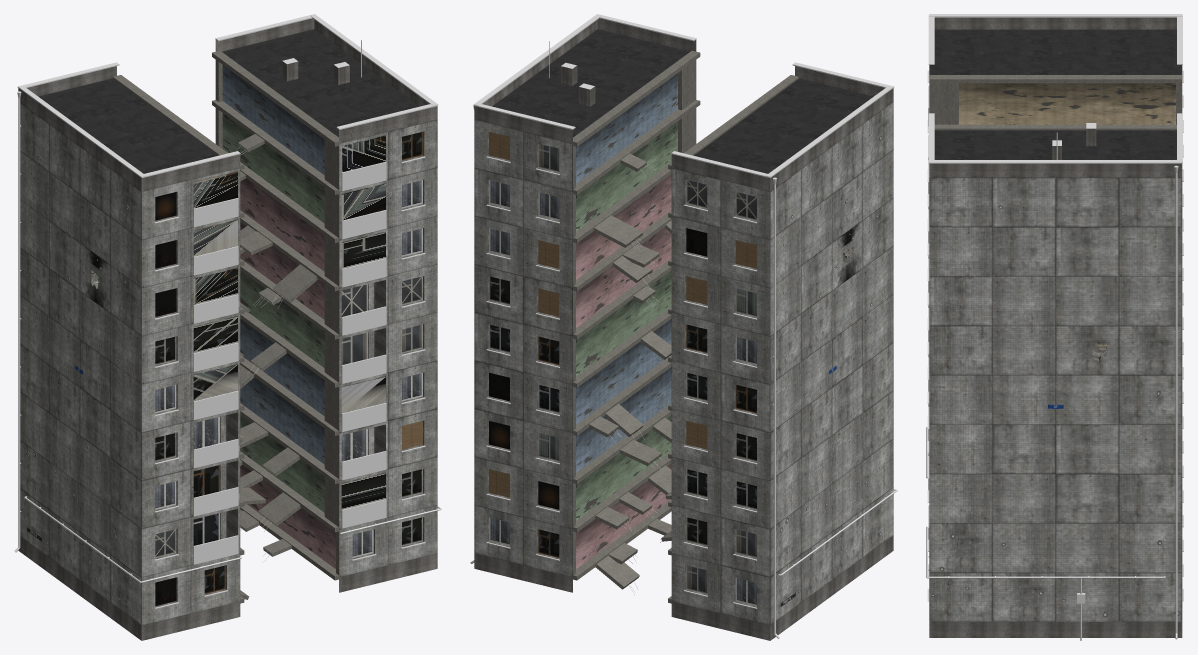
The model's file is S1U_P9_Collapsed.fbx.
3 renders of one model, left to right at view 1: azimuth 30°, elevation 25°; view 2: azimuth 150°, elevation 25°; view 3: azimuth 270°, elevation 25°, orthographic. The views are drawn at different scales.
Visible parts, largest first — view 1: S1U_P9_Collapsed; view 2: S1U_P9_Collapsed; view 3: S1U_P9_Collapsed.
Part boxes in pixels (<box>): S1U_P9_Collapsed: <box>14,14,441,640</box>; S1U_P9_Collapsed: <box>470,14,897,640</box>; S1U_P9_Collapsed: <box>926,14,1183,640</box>.
Size of the model in its own units: 18.79 by 28.94 by 13.24.
